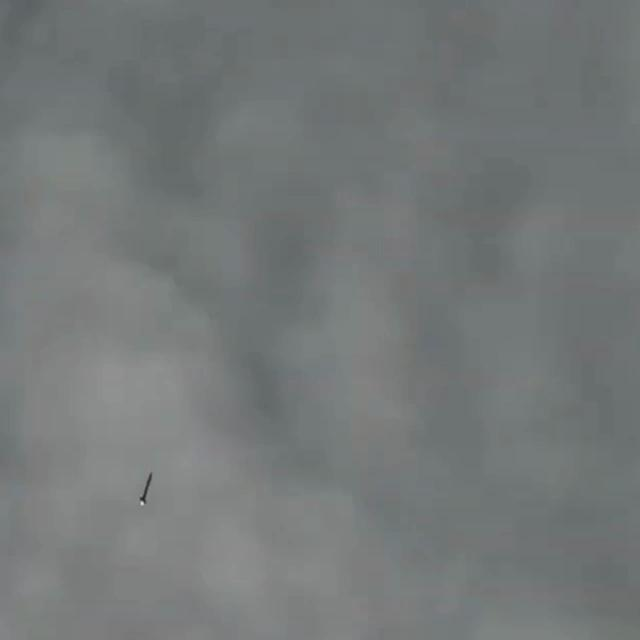rocket: (138, 477, 152, 505)
